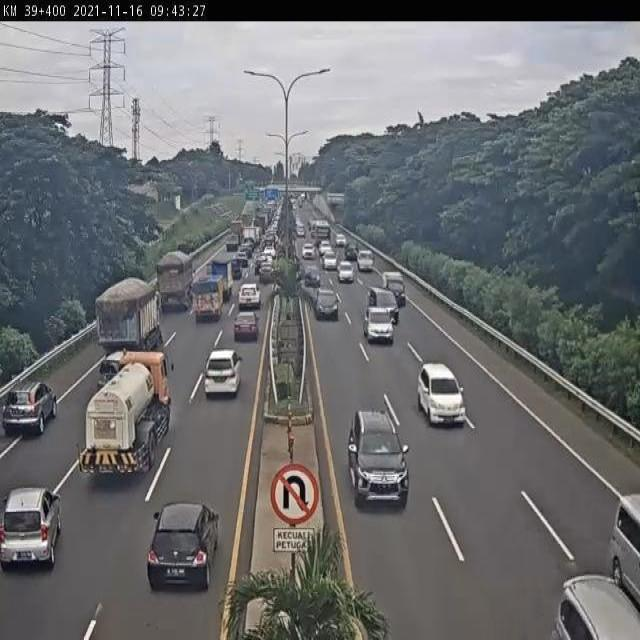Bus: (313, 218, 332, 248)
Car: (146, 502, 219, 592), (346, 409, 410, 510), (551, 574, 640, 638), (0, 486, 61, 569), (2, 380, 58, 438), (417, 363, 465, 426), (204, 348, 242, 397), (363, 304, 397, 344), (367, 286, 400, 325), (98, 349, 126, 391), (314, 287, 340, 321), (233, 311, 260, 342), (238, 282, 262, 310), (304, 266, 322, 288), (337, 261, 355, 283), (258, 260, 274, 284), (357, 250, 374, 272), (323, 252, 338, 270), (235, 250, 249, 267), (344, 246, 358, 262), (302, 243, 315, 260), (320, 240, 332, 257), (336, 233, 346, 248), (296, 227, 304, 239)
Truck: (76, 349, 174, 482), (94, 275, 165, 354), (155, 251, 194, 312), (192, 274, 224, 322), (207, 256, 234, 302), (382, 271, 406, 308), (224, 232, 240, 252), (230, 220, 244, 242)
Van: (607, 494, 640, 618)
